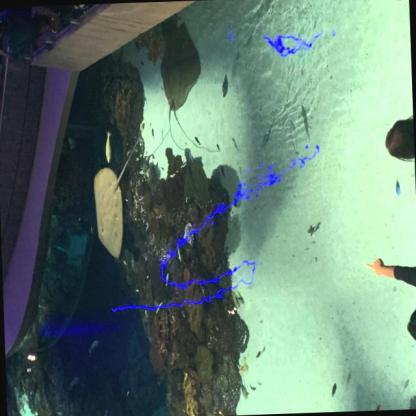fish: (382, 112, 414, 166), (288, 118, 300, 157), (103, 129, 114, 165), (86, 338, 100, 362), (220, 70, 230, 99), (67, 374, 81, 392), (307, 221, 322, 237), (240, 380, 249, 398), (395, 176, 401, 198), (330, 382, 338, 398), (402, 378, 410, 393), (346, 370, 353, 386), (220, 164, 226, 178), (194, 135, 201, 146), (249, 383, 256, 391), (372, 404, 381, 410), (256, 350, 261, 359), (216, 143, 220, 151), (152, 127, 154, 139), (160, 166, 164, 170)
stingray: (158, 20, 202, 112), (92, 166, 125, 260)
